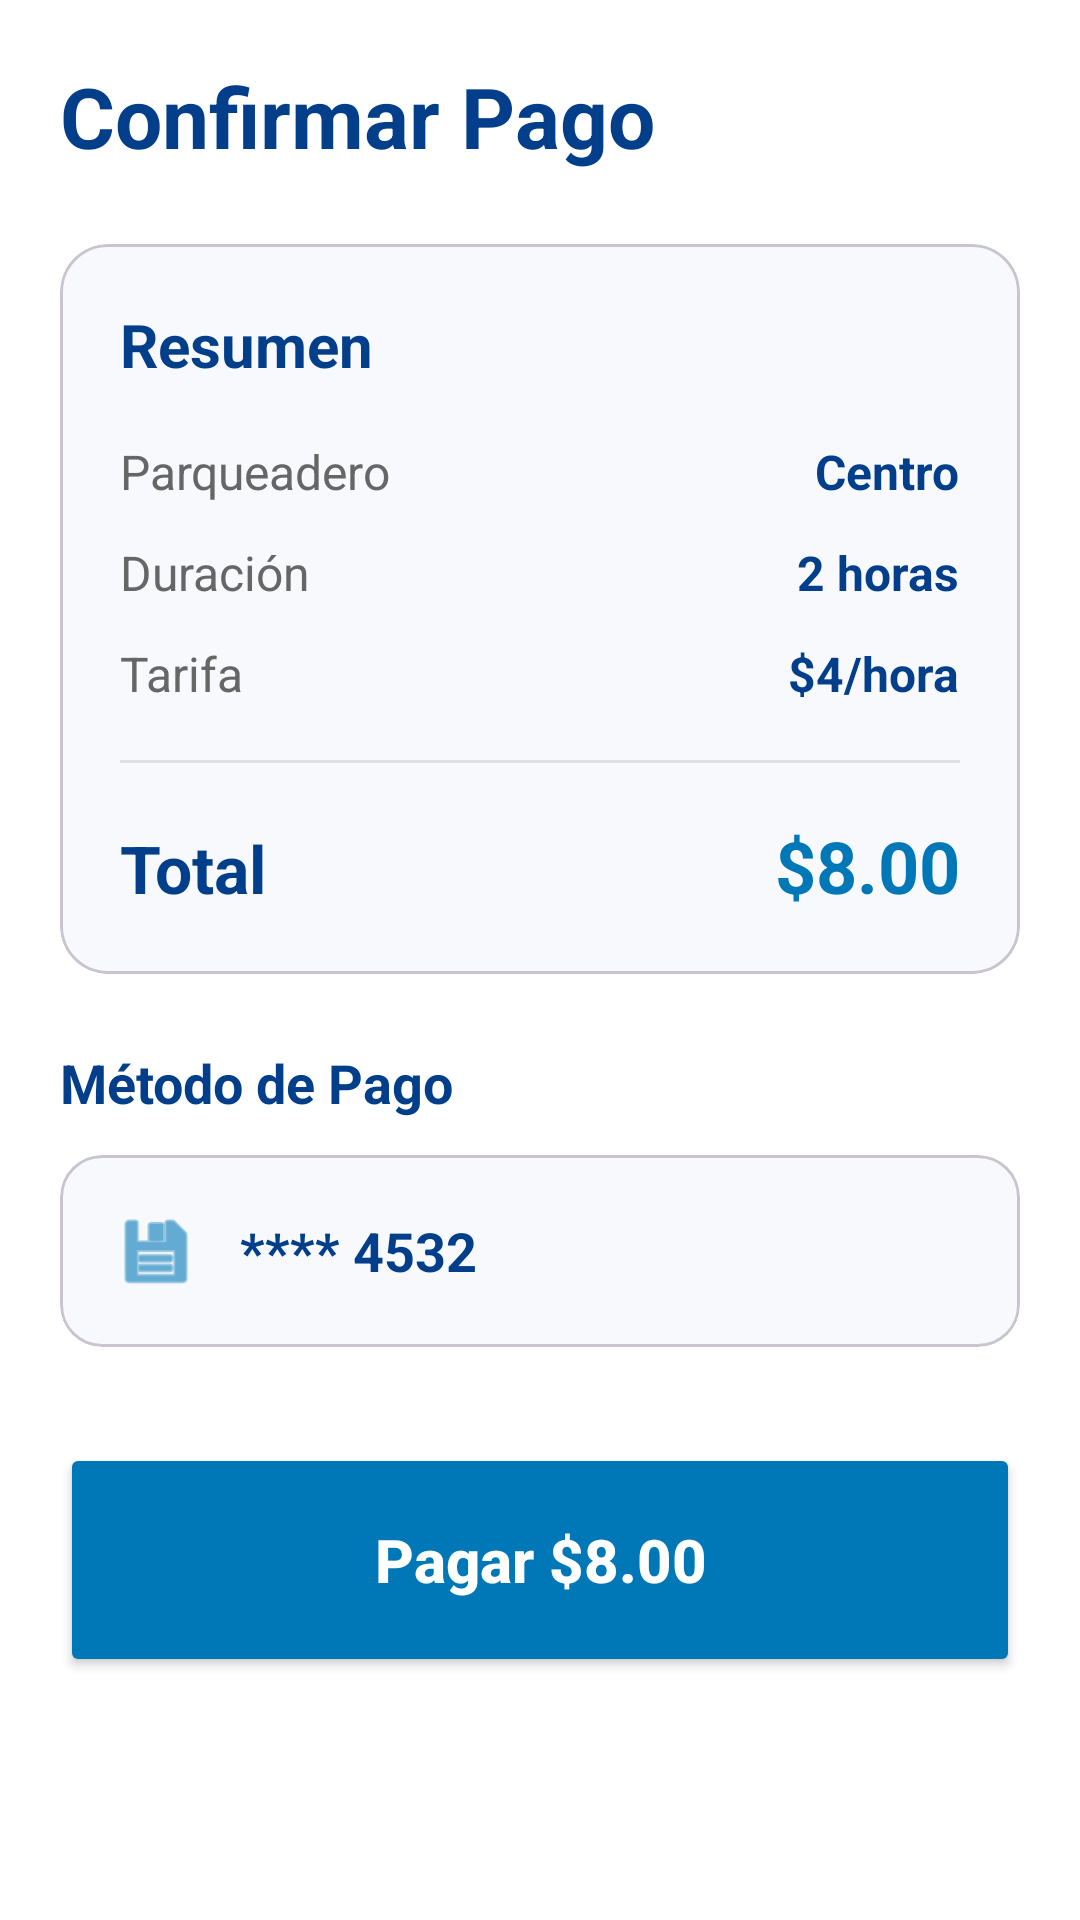

Icon click points for this 1080px x 1920px phone screenshot, format [x,y]:
save: [156,1251]
